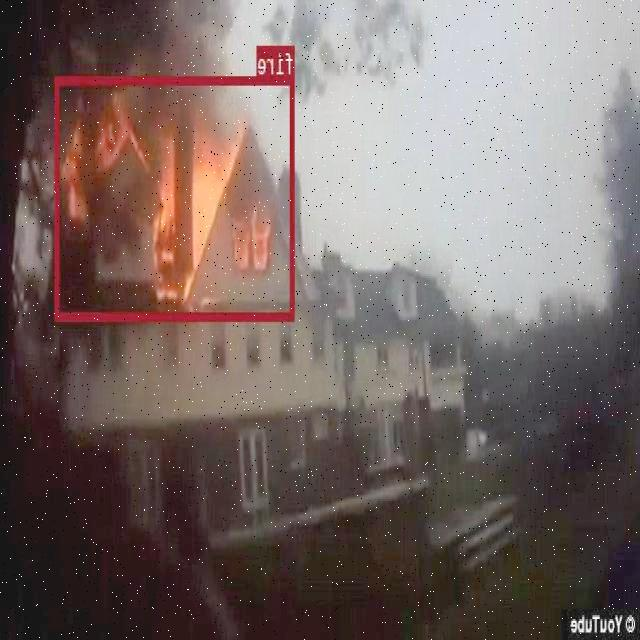fire: (56, 74, 294, 319)
